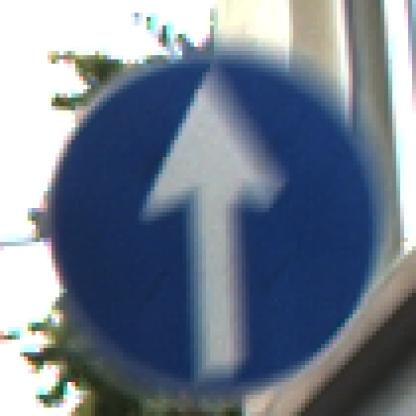AheadOnly: (37, 35, 377, 383)
